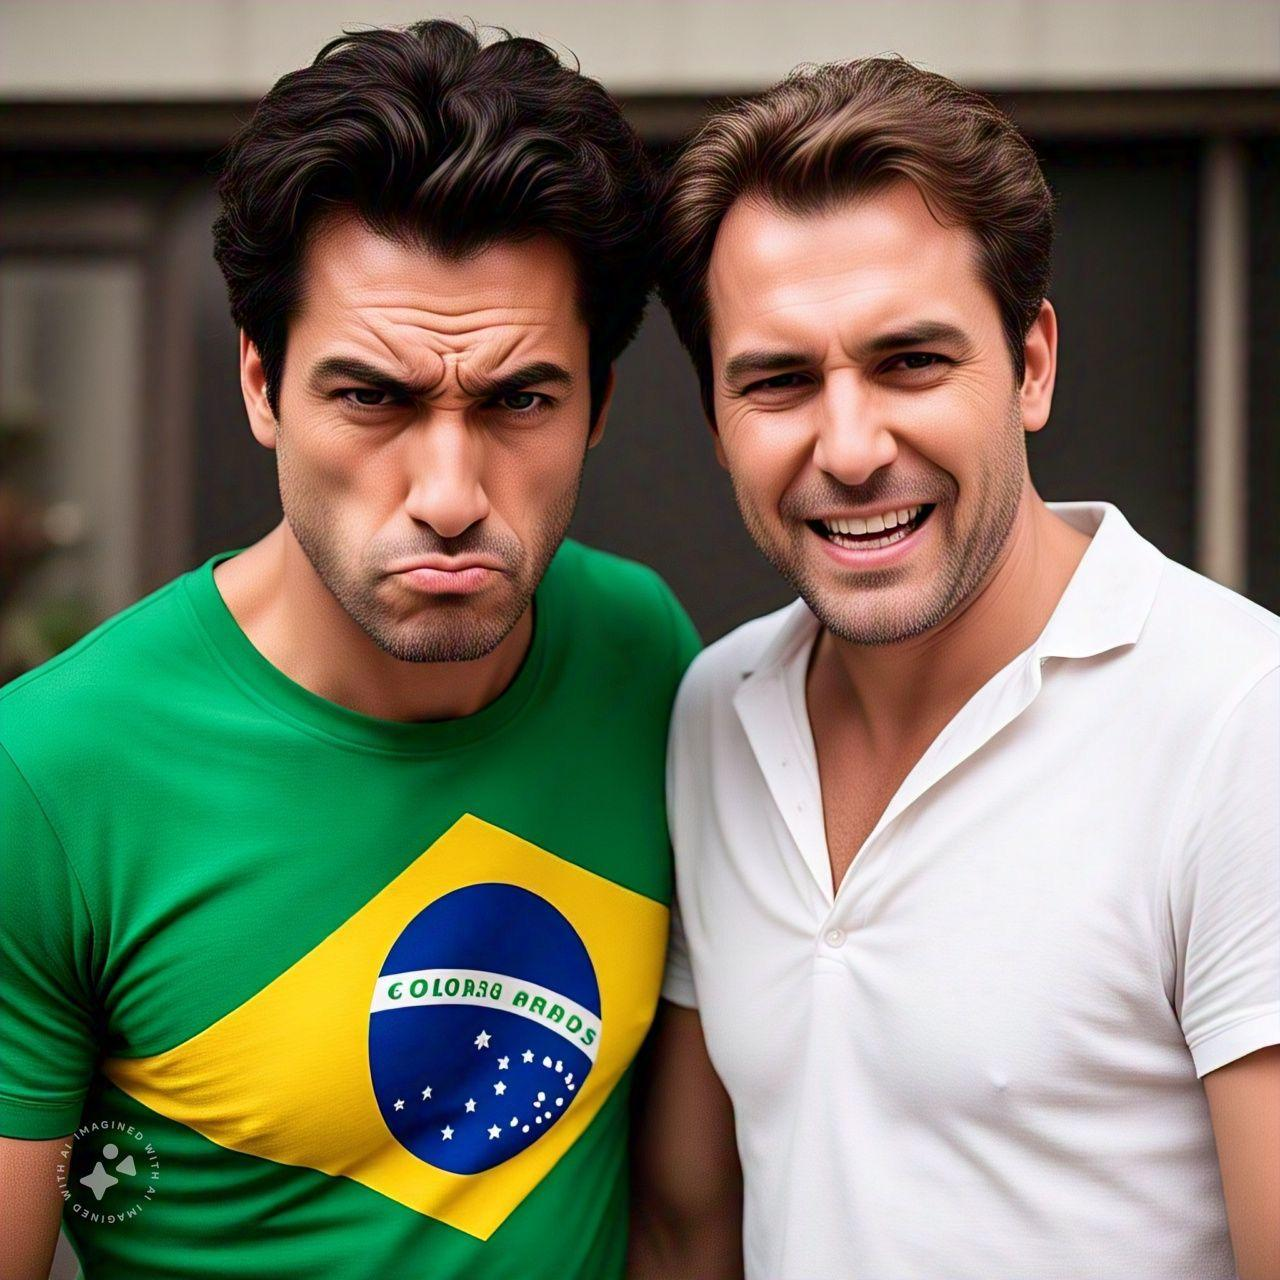feliz: (702, 186, 1054, 646)
raiva: (226, 178, 622, 642)
